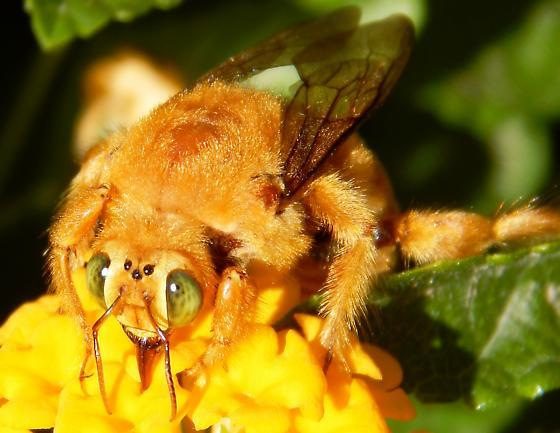Xylocopa: (45, 23, 527, 383)
